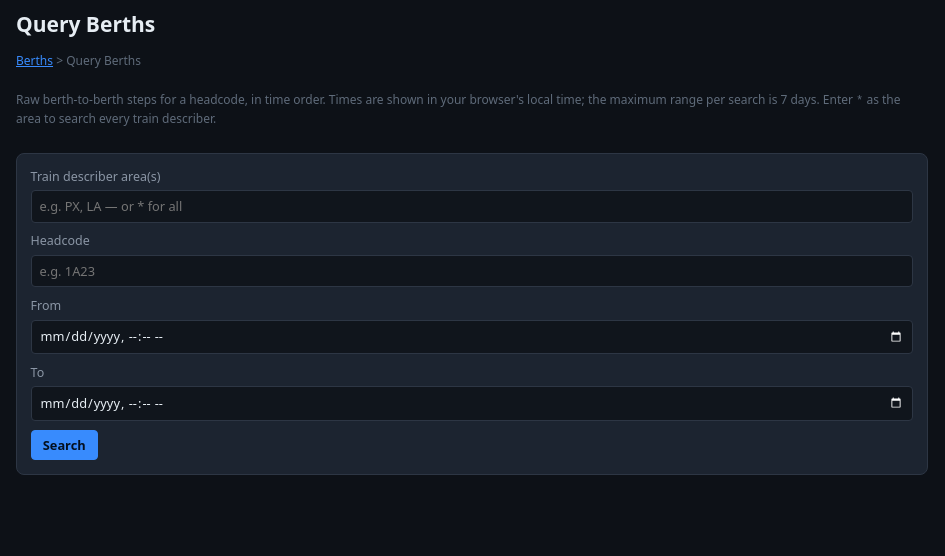
Test: BerthQueryPage › sends * as the area to search every train describer
Type " * " into the field labelled "Train describer area(s)".
click(472, 207); type(" * ")  # box [31,190,913,223]
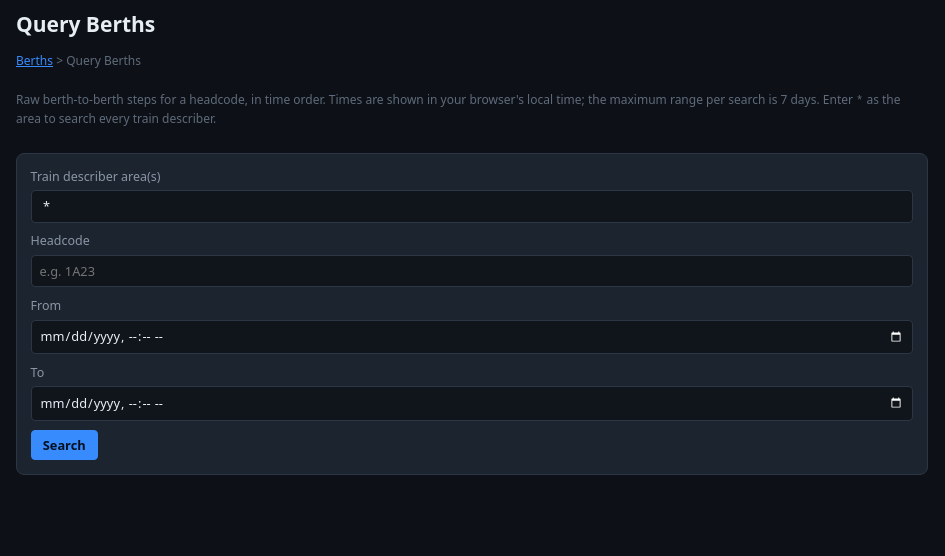
Type "1A23" into the field with placeholder "e.g. 1A23".
click(472, 271); type("1A23")  # box [31,255,913,288]
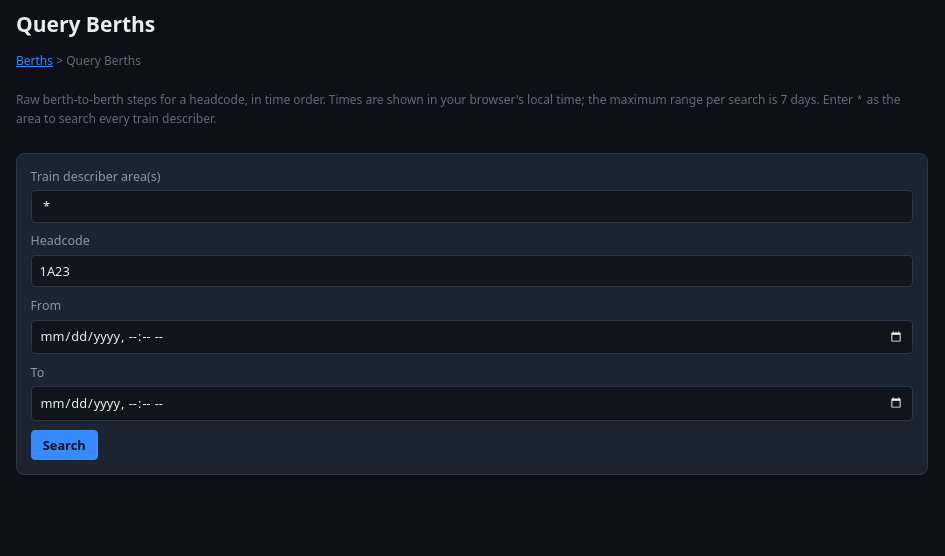
Click the button "Search".
click(64, 445)  # box [31,430,98,460]
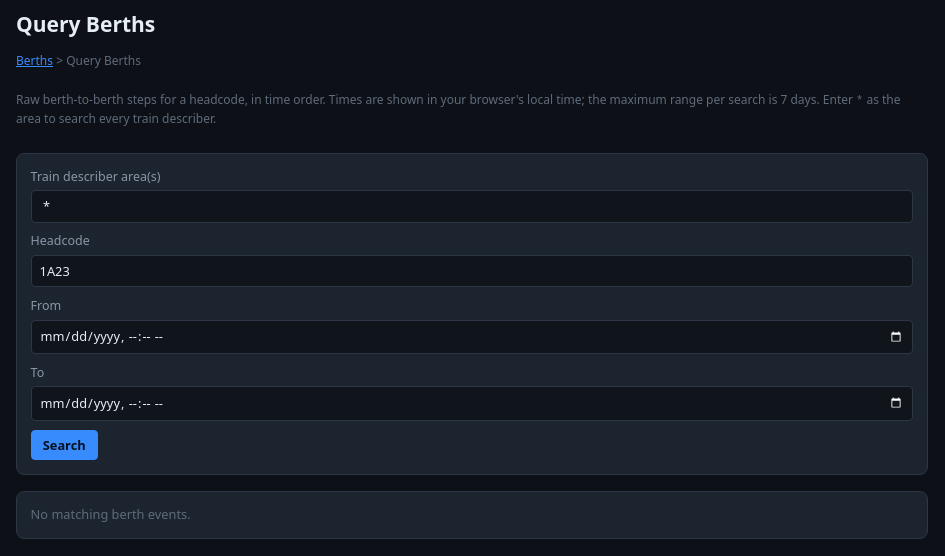
Now the text "No matching berth events." is shown, box [16,491,928,539]
